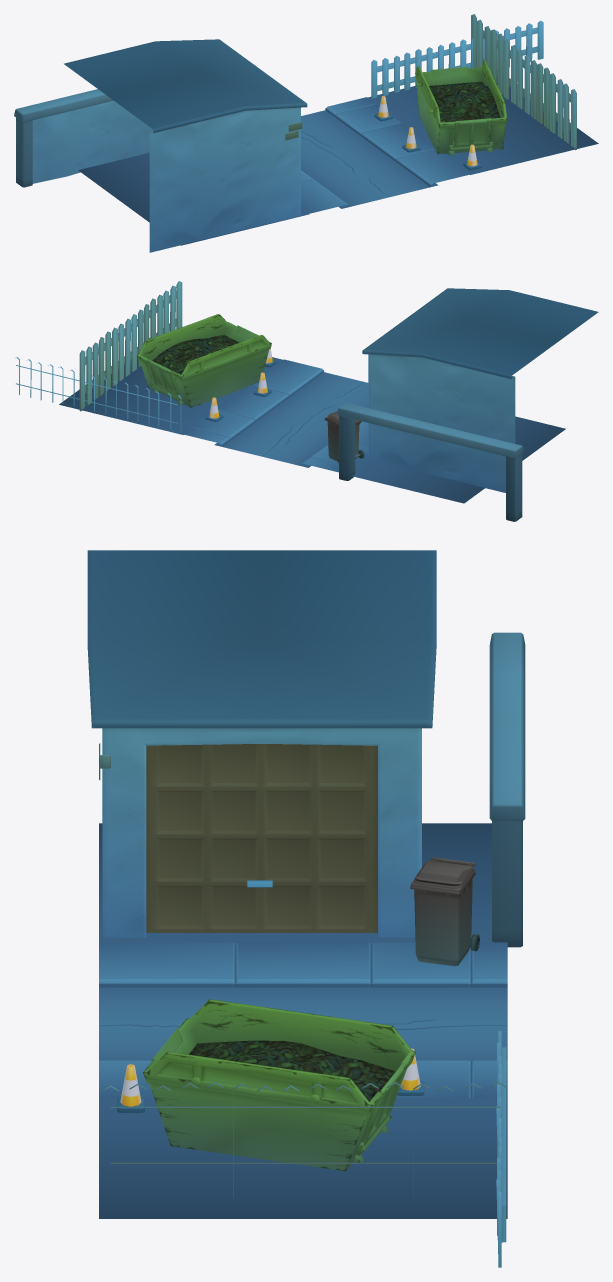
File: SuburbsGarage01.prefab.glb
The picture shows the model from 3 angles, top to bottom: view 1: azimuth 30°, elevation 25°; view 2: azimuth 150°, elevation 25°; view 3: azimuth 270°, elevation 25°; orthographic projection. The views are drawn at different scales.
Parts seen in each view (by area): view 1: Garage01, SuburbsGarage01, PlassteredWall01, SkipYellow, WoodFence01 (1), WoodFence02; view 2: Garage01, SuburbsGarage01, SkipYellow, WoodFence01 (1), PlassteredWall01, WoodFence02, WheelyBinRed; view 3: Garage01, SuburbsGarage01, SkipYellow, PlassteredWall01, WheelyBinRed, WoodFence01 (1), WoodFence02.
Boxes of the visible parts, x1=… form: Garage01: x1=64, y1=39, x2=307, y2=252; SuburbsGarage01: x1=78, y1=77, x2=598, y2=245; PlassteredWall01: x1=14, y1=89, x2=152, y2=187; SkipYellow: x1=415, y1=60, x2=506, y2=155; WoodFence01 (1): x1=471, y1=14, x2=576, y2=150; WoodFence02: x1=371, y1=20, x2=543, y2=98; Garage01: x1=362, y1=288, x2=598, y2=492; SuburbsGarage01: x1=59, y1=357, x2=565, y2=503; SkipYellow: x1=137, y1=314, x2=271, y2=407; WoodFence01 (1): x1=79, y1=281, x2=182, y2=411; PlassteredWall01: x1=337, y1=402, x2=523, y2=521; WoodFence02: x1=15, y1=357, x2=181, y2=432; WheelyBinRed: x1=324, y1=411, x2=364, y2=463; Garage01: x1=87, y1=550, x2=436, y2=937; SuburbsGarage01: x1=99, y1=823, x2=507, y2=1218; SkipYellow: x1=143, y1=999, x2=415, y2=1171; PlassteredWall01: x1=489, y1=632, x2=525, y2=947; WheelyBinRed: x1=410, y1=857, x2=479, y2=966; WoodFence01 (1): x1=102, y1=1082, x2=506, y2=1197; WoodFence02: x1=496, y1=1031, x2=506, y2=1267.
Bounding box in the file's own units: 25.83 × 6.1 × 9.65.
Materials: 5 (4 with a texture image).
